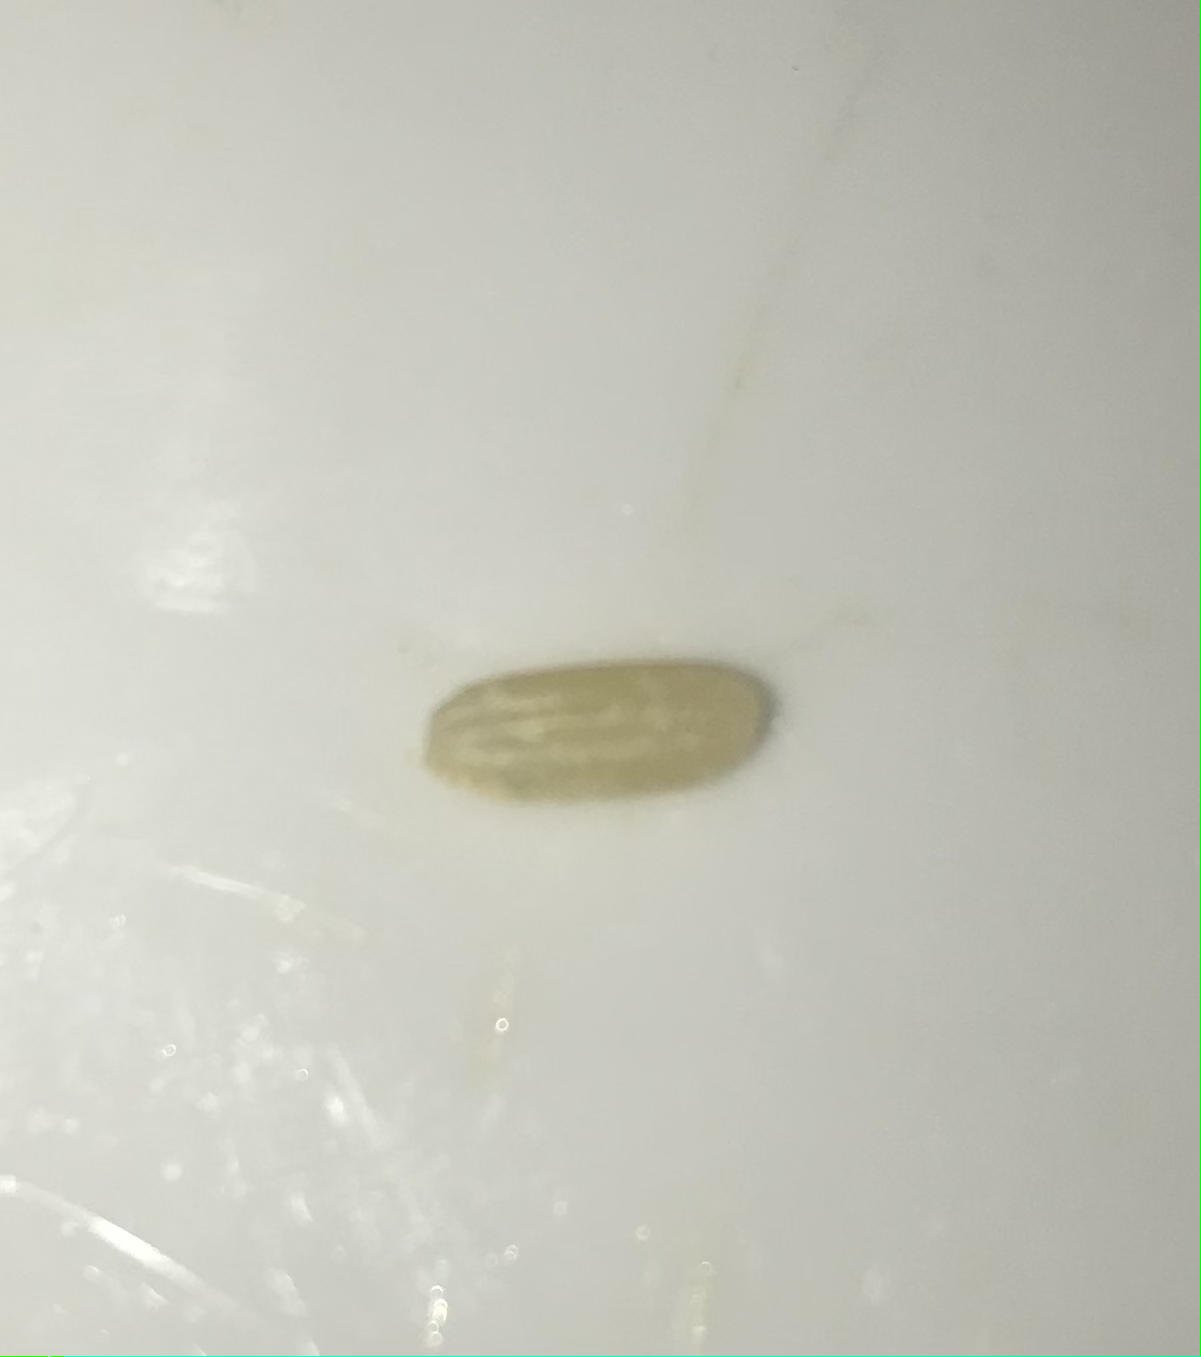Gao Lut Trang: (413, 634, 784, 826)
